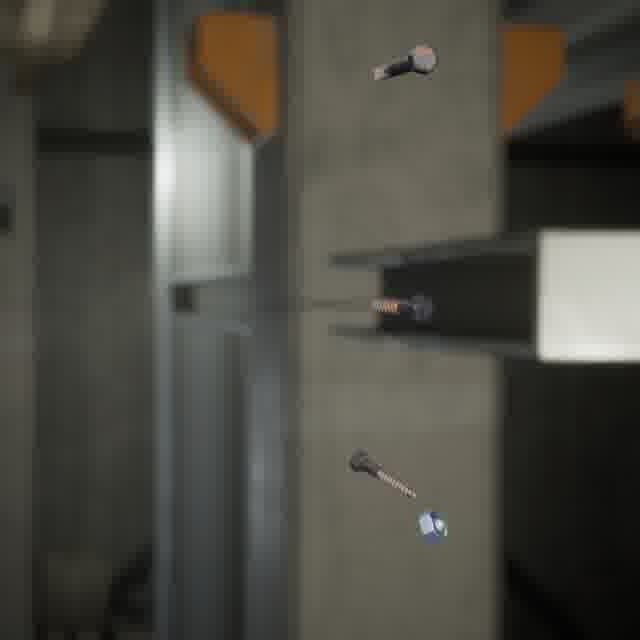bolt: (345, 446, 422, 502), (367, 39, 442, 85), (367, 290, 437, 327)
nut: (414, 504, 451, 548)
